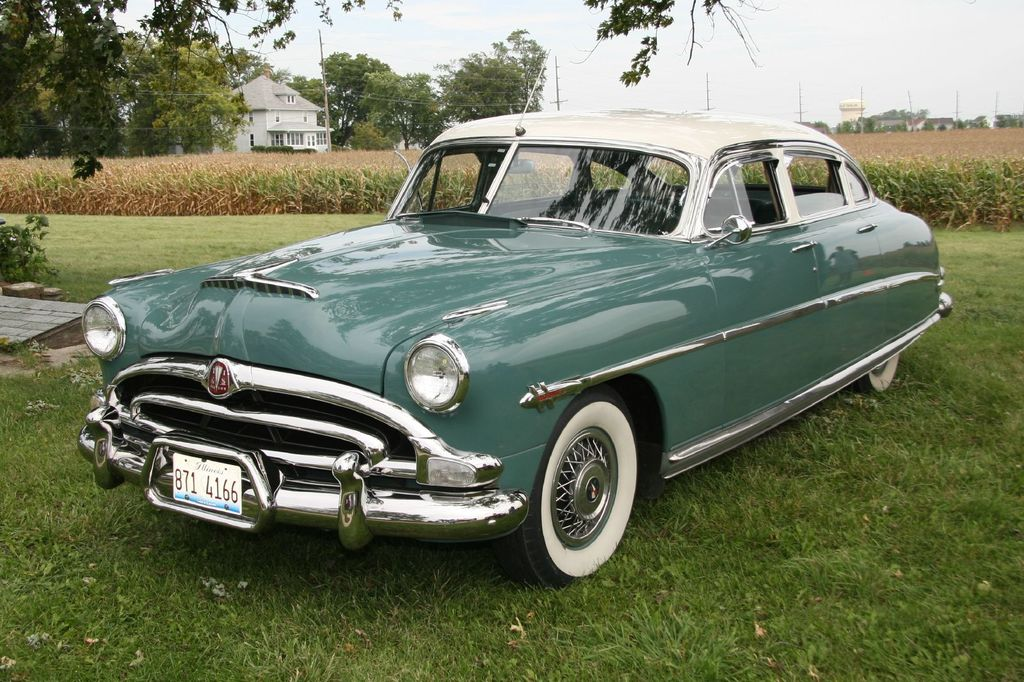Car: (78, 51, 953, 584)
